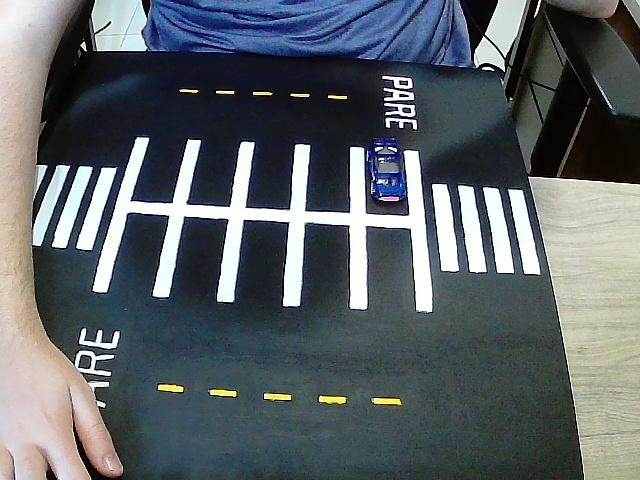Carro: (368, 138, 405, 203)
